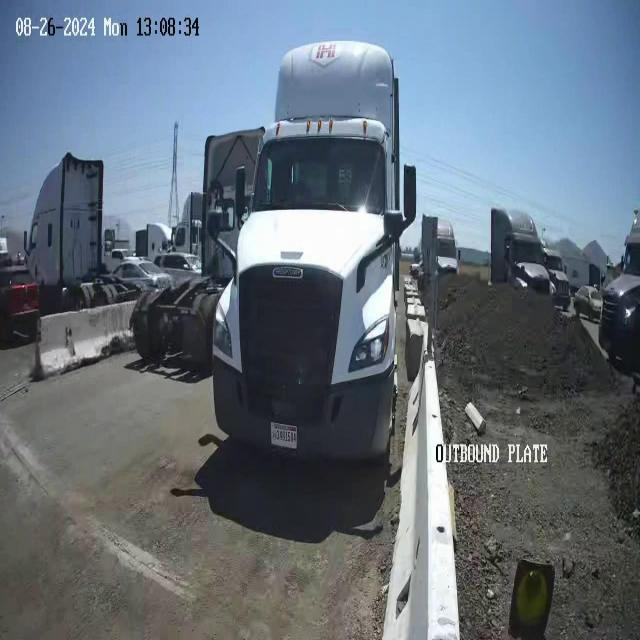TRUCK_OUT: (203, 38, 417, 470)
